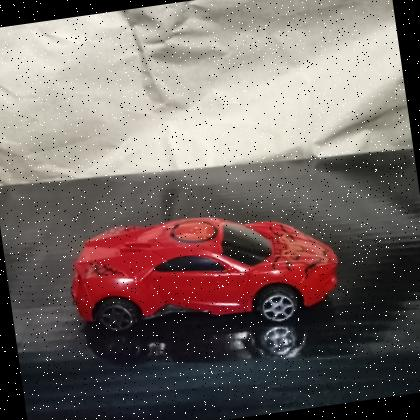Car: (70, 217, 339, 332)
